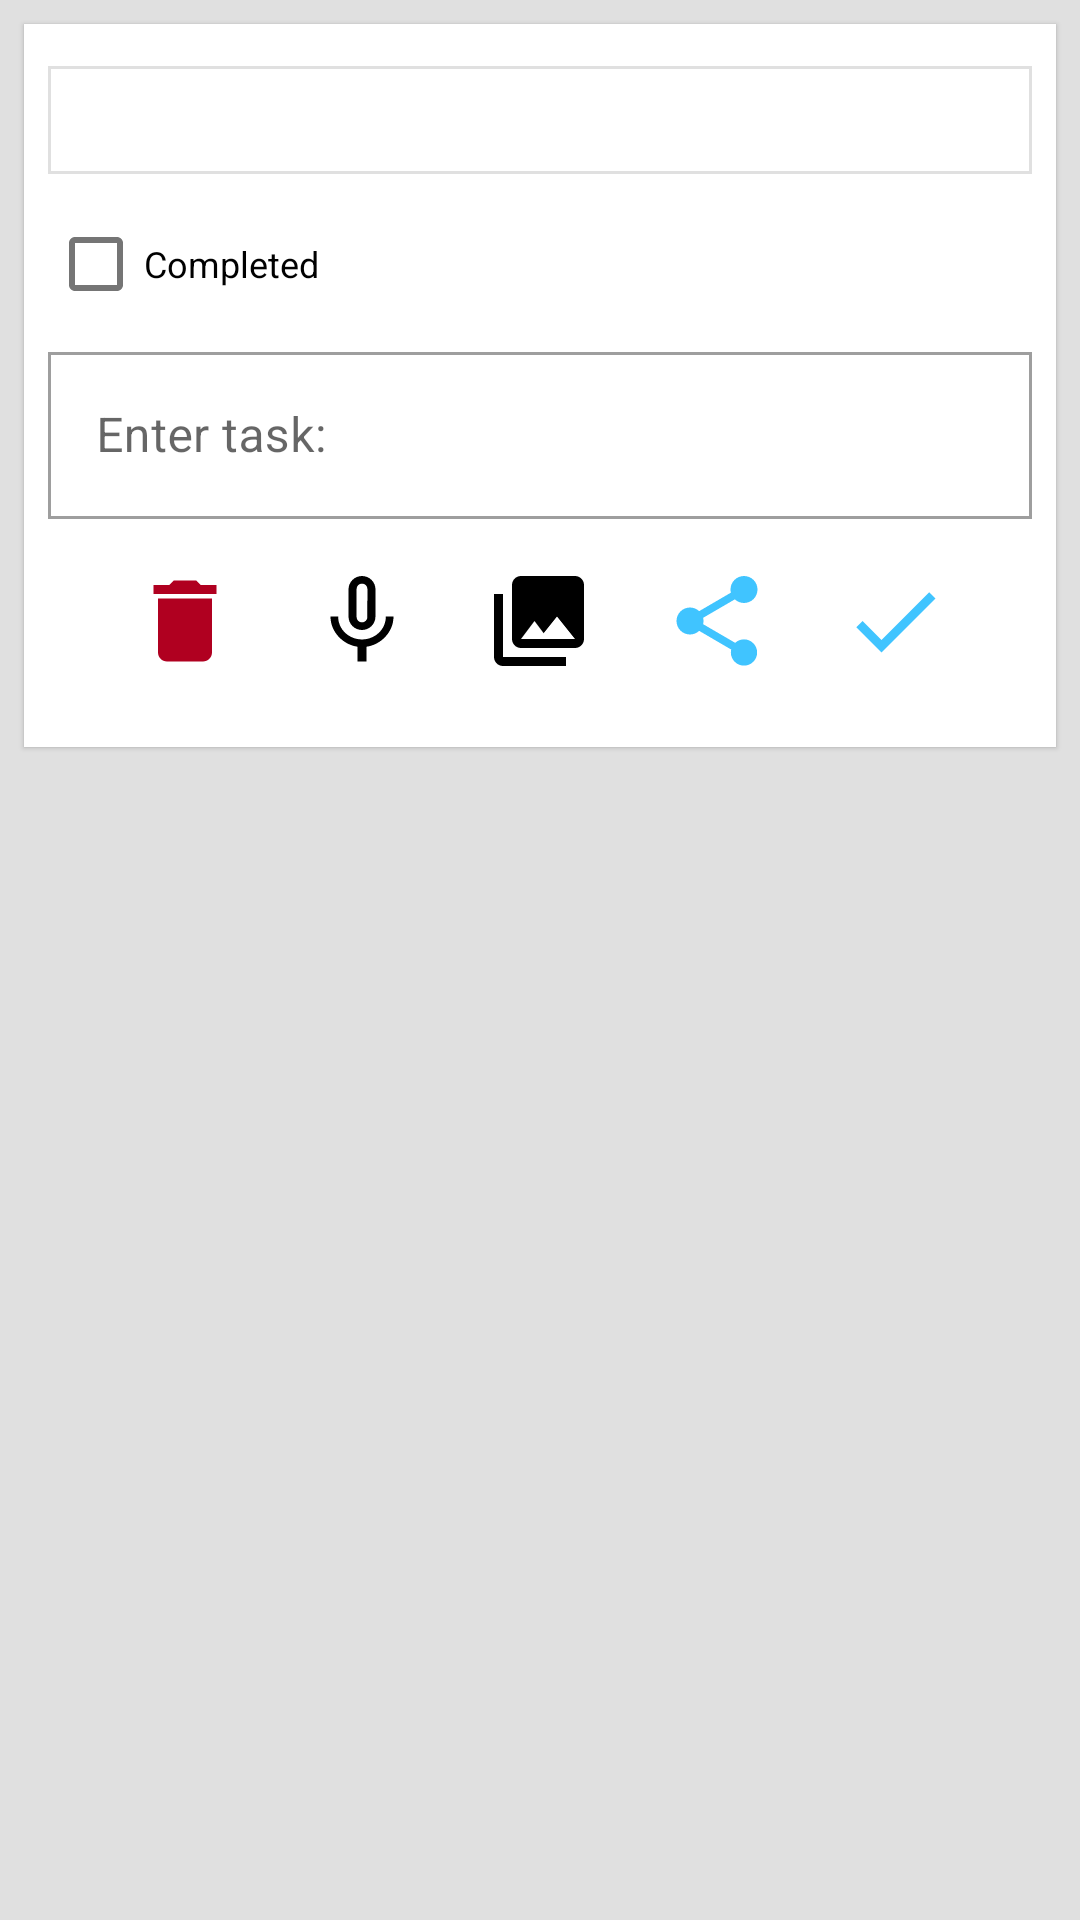

Icon click points for this 1080x1920 phone screenshot, format (x=x, y=y):
delete: (x=185, y=621)
done: (x=896, y=622)
photo: (x=539, y=621)
record: (x=362, y=619)
share: (x=717, y=621)
